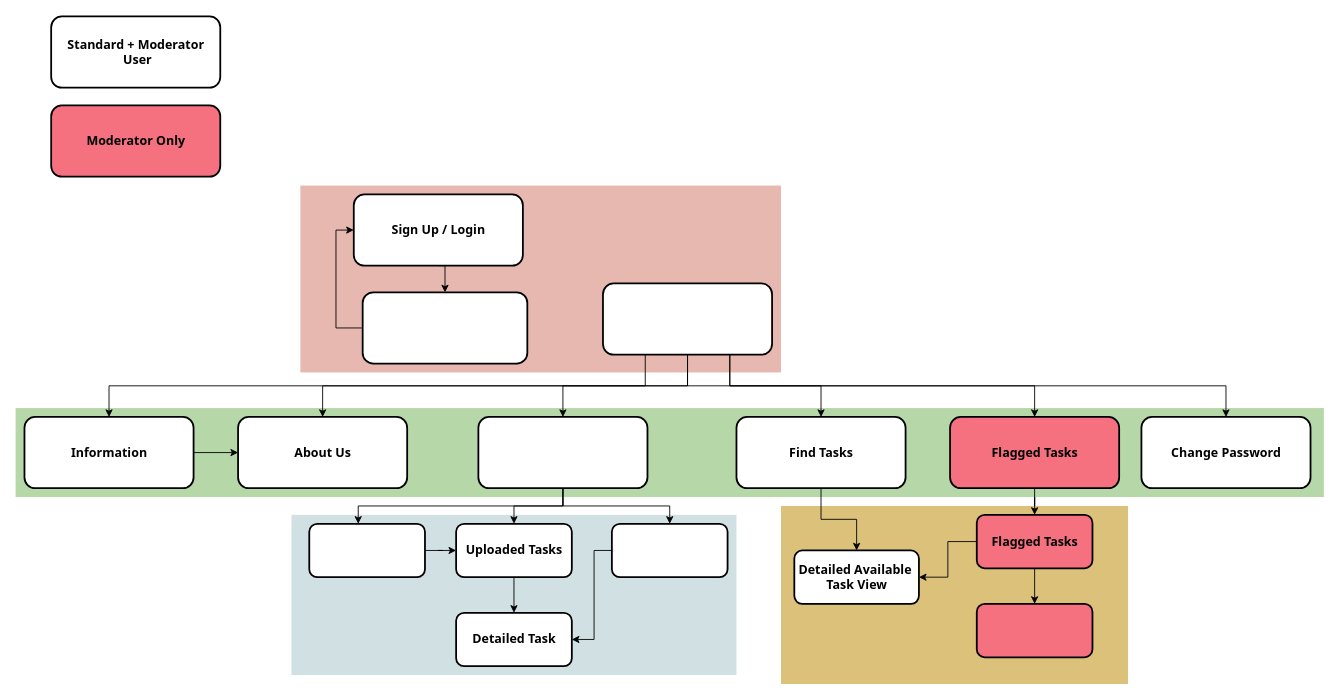
The diagram is 1339 pixels wide and 699 high, and some of its shapes have lost their labels. Each missing label, with the centre of its shape:
"Accepted Tasks" belongs at [669,550].
"Ban User" belongs at [1034,630].
"Forgot Password" belongs at [444,327].
"Home Page / My Account" belongs at [687,318].
"My Tasks" belongs at [562,452].
"Upload A Task" belongs at [366,550].
